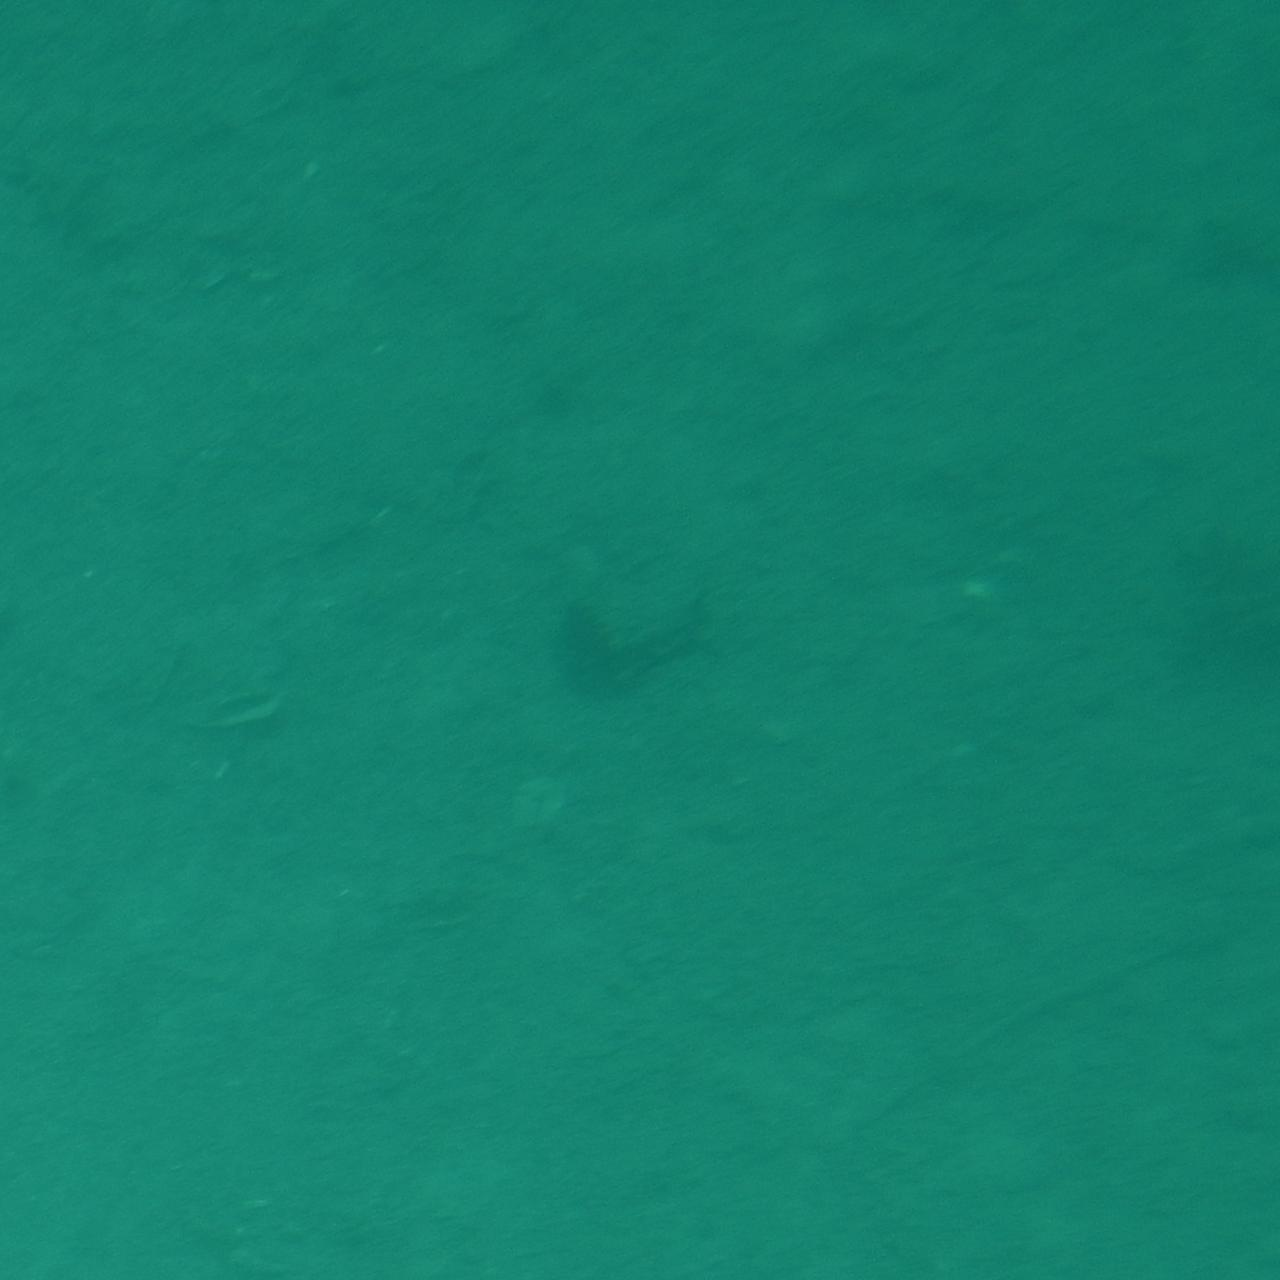Holothuria tubulosa: (536, 574, 744, 706)
